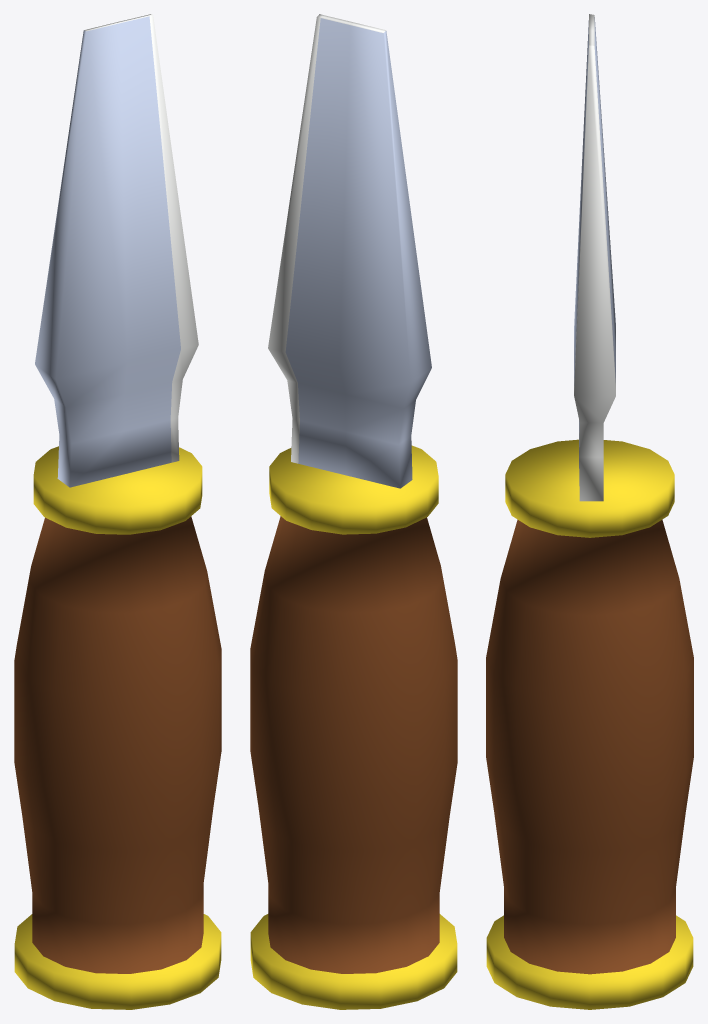
Rendered from Spatula 1.fbx.
The picture shows the model from 3 angles, left to right: view 1: azimuth 30°, elevation 25°; view 2: azimuth 150°, elevation 25°; view 3: azimuth 270°, elevation 25°; orthographic projection.
Visible parts, largest first — view 1: Cube.001; view 2: Cube.001; view 3: Cube.001.
Part boxes in pixels (bbox=[...]): Cube.001: bbox=[14, 14, 221, 1009]; Cube.001: bbox=[250, 14, 457, 1009]; Cube.001: bbox=[486, 14, 693, 1009].
Bounding box in the file's own units: 20.4 × 103 × 20.4.
